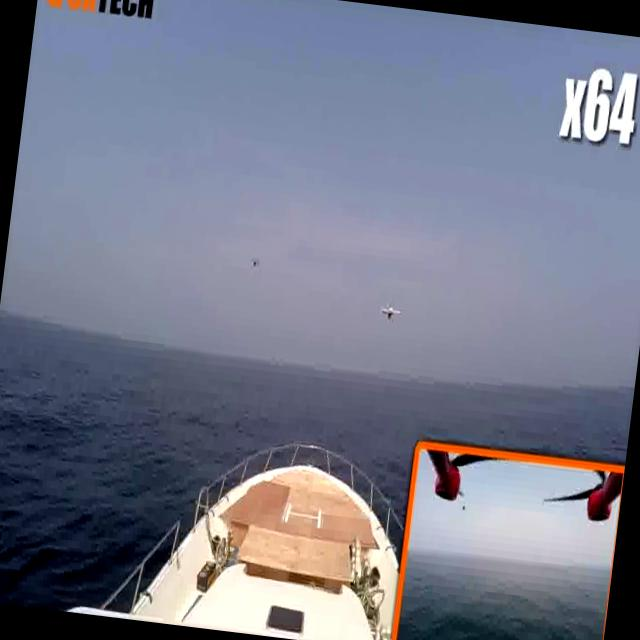drone: (376, 298, 405, 323)
